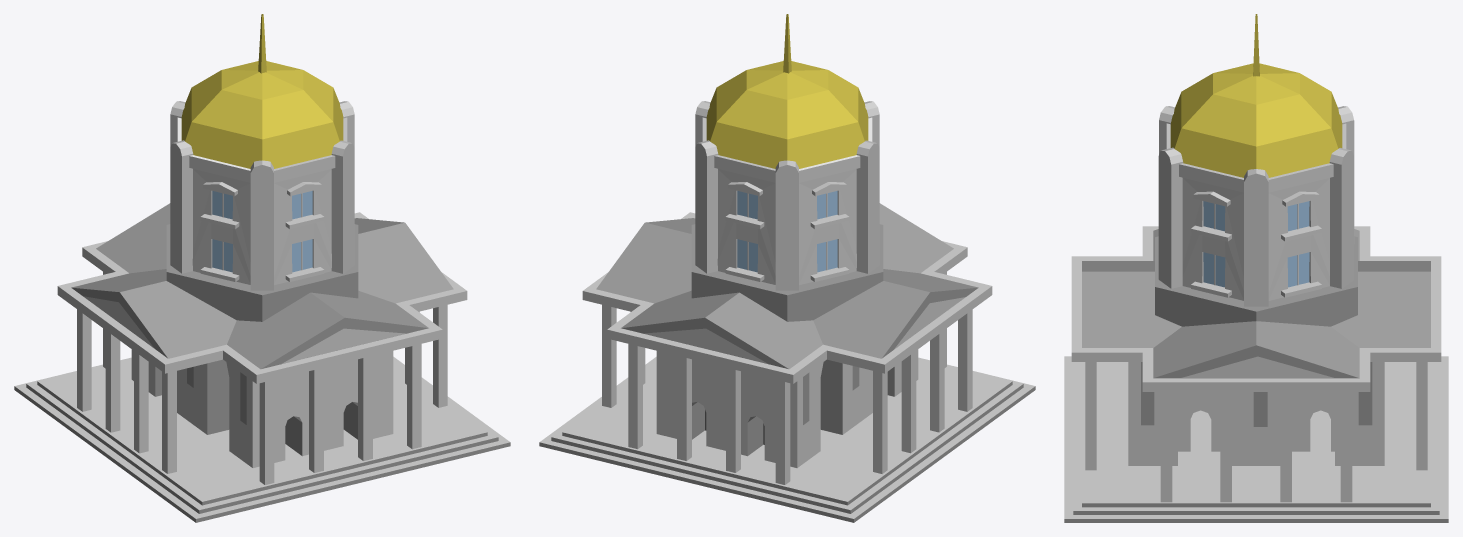
Rendered from temple_003.fbx.
3 renders of one model, left to right at view 1: azimuth 30°, elevation 25°; view 2: azimuth 150°, elevation 25°; view 3: azimuth 270°, elevation 25°, orthographic. The views are drawn at different scales.
Visible parts, largest first — view 1: temple_003; view 2: temple_003; view 3: temple_003.
Boxes of the visible parts, x1,y1,x2,y2 form: temple_003: (14,14,510,522); temple_003: (539,14,1035,522); temple_003: (1064,14,1448,522).
Size of the model in its own units: 1505 by 1875 by 1505.
